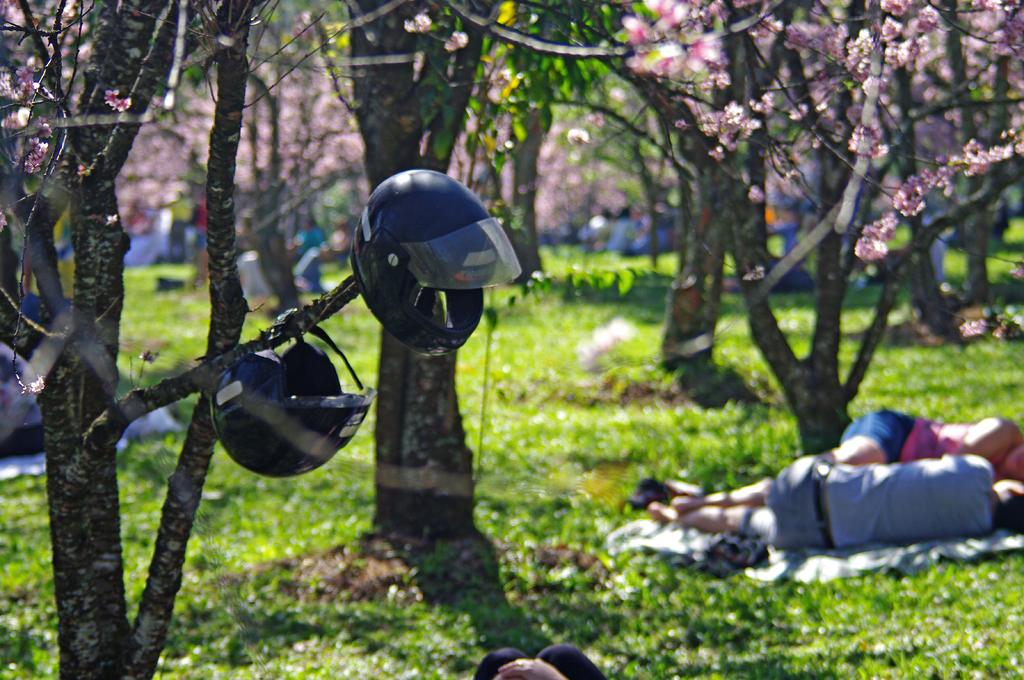helmet: (350, 169, 522, 356), (209, 341, 378, 478)
